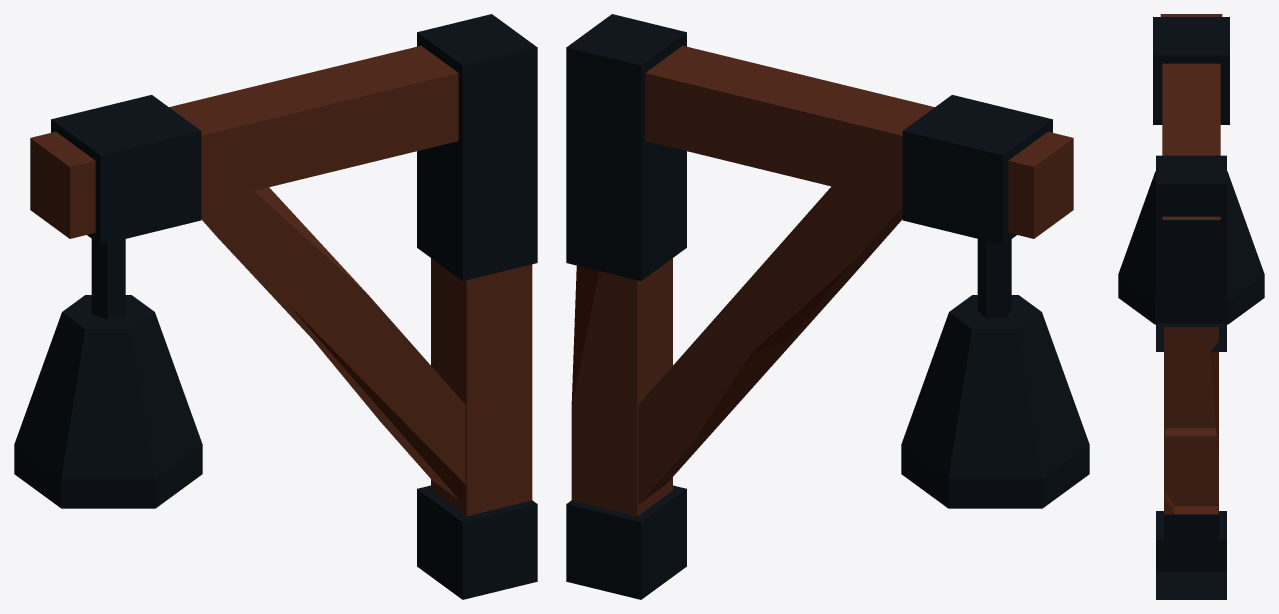
The model's file is Lamp_2.fbx.
The picture shows the model from 3 angles, left to right: view 1: azimuth 30°, elevation 25°; view 2: azimuth 150°, elevation 25°; view 3: azimuth 270°, elevation 25°; orthographic projection. The views are drawn at different scales.
Visible parts, largest first — view 1: Lamp_2; view 2: Lamp_2; view 3: Lamp_2.
Boxes of the visible parts, x1,y1,x2,y2 form: Lamp_2: (14,14,537,599); Lamp_2: (566,14,1089,599); Lamp_2: (1118,14,1264,599).
Bounding box in the file's own units: 43.29 × 46.38 × 14.8.
